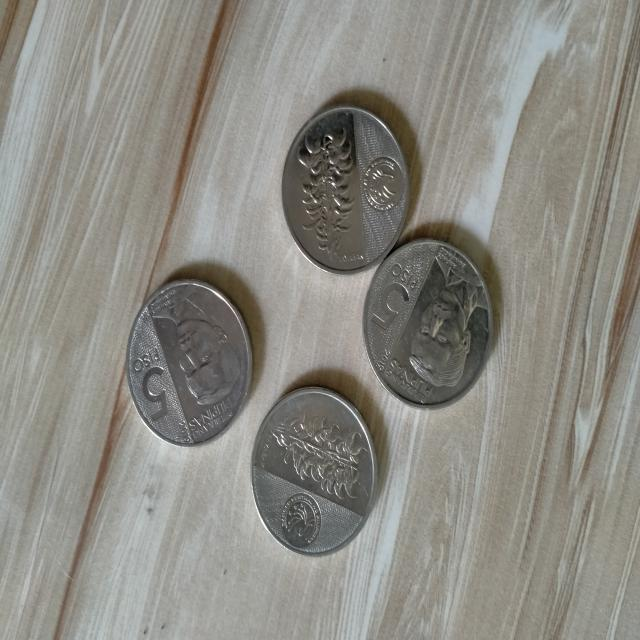5_New_Back: (261, 403, 369, 497), (298, 125, 357, 254)
5_New_Front: (124, 338, 176, 428), (370, 255, 420, 343)
